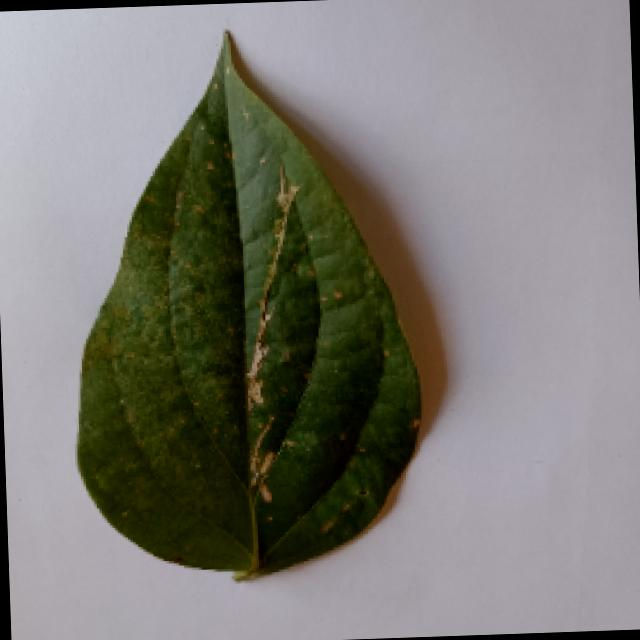pollu-disease: (28, 23, 459, 580)
